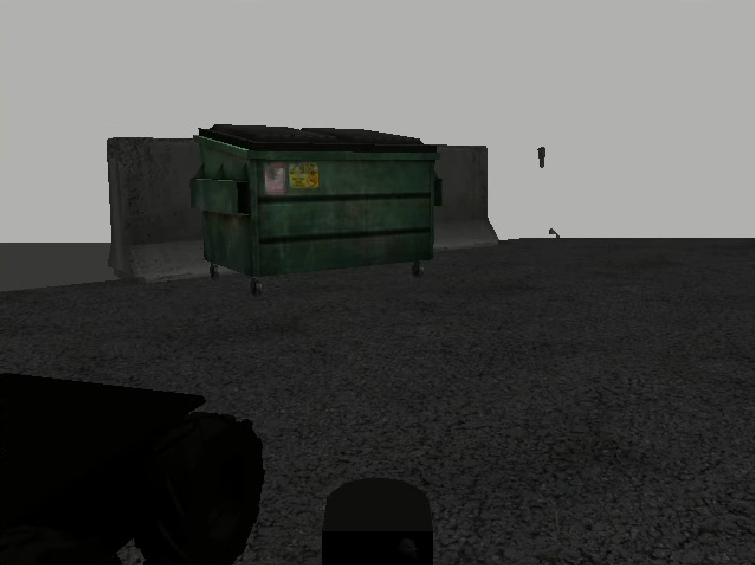husky: (1, 372, 266, 565)
